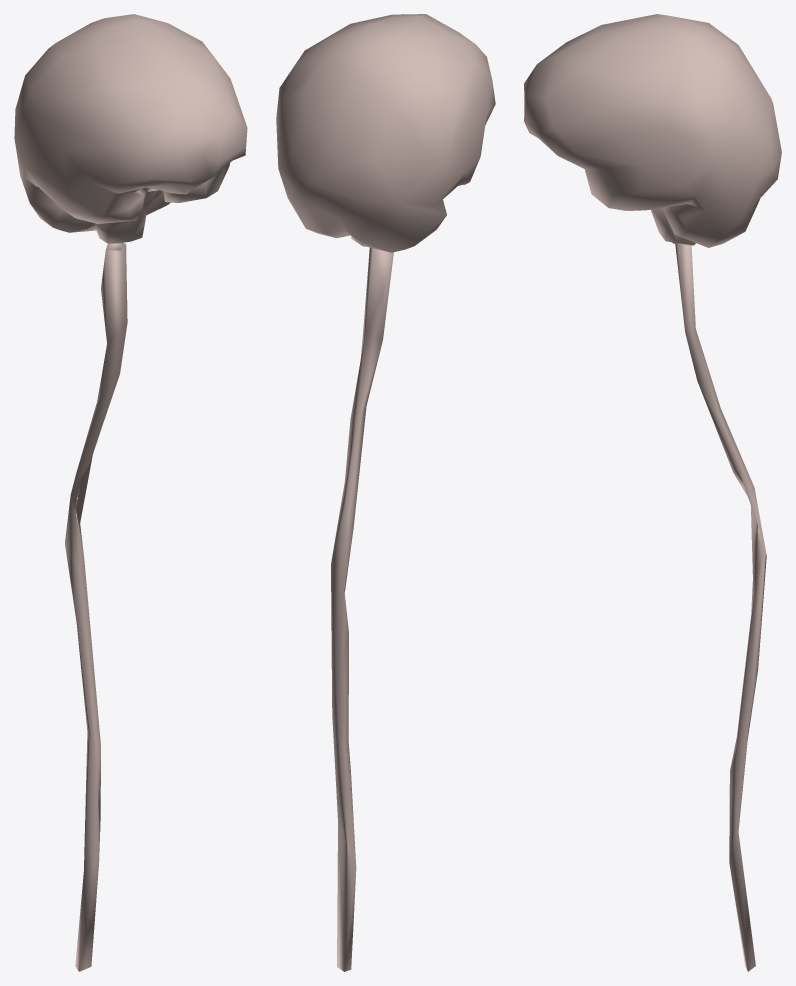
File: pediatric_adolescent_male.nervous.LOD3.glb
3 renders of one model, left to right at view 1: azimuth 30°, elevation 25°; view 2: azimuth 150°, elevation 25°; view 3: azimuth 270°, elevation 25°, orthographic. The views are drawn at different scales.
Parts seen in each view (by area): view 1: PEDIATRIC.ADOLESCENT.MALE.NERVOUS.BRAIN, PEDIATRIC.ADOLESCENT.MALE.NERVOUS.SPINAL_CORD; view 2: PEDIATRIC.ADOLESCENT.MALE.NERVOUS.BRAIN, PEDIATRIC.ADOLESCENT.MALE.NERVOUS.SPINAL_CORD; view 3: PEDIATRIC.ADOLESCENT.MALE.NERVOUS.BRAIN, PEDIATRIC.ADOLESCENT.MALE.NERVOUS.SPINAL_CORD.
Part boxes in pixels (x1,y1,x2,y2): PEDIATRIC.ADOLESCENT.MALE.NERVOUS.BRAIN: [14, 14, 247, 243]; PEDIATRIC.ADOLESCENT.MALE.NERVOUS.SPINAL_CORD: [65, 242, 127, 971]; PEDIATRIC.ADOLESCENT.MALE.NERVOUS.BRAIN: [276, 14, 495, 252]; PEDIATRIC.ADOLESCENT.MALE.NERVOUS.SPINAL_CORD: [331, 247, 393, 971]; PEDIATRIC.ADOLESCENT.MALE.NERVOUS.BRAIN: [524, 14, 781, 247]; PEDIATRIC.ADOLESCENT.MALE.NERVOUS.SPINAL_CORD: [672, 242, 766, 971].
Size of the model in its own units: 0.1333 by 0.656 by 0.1621.
